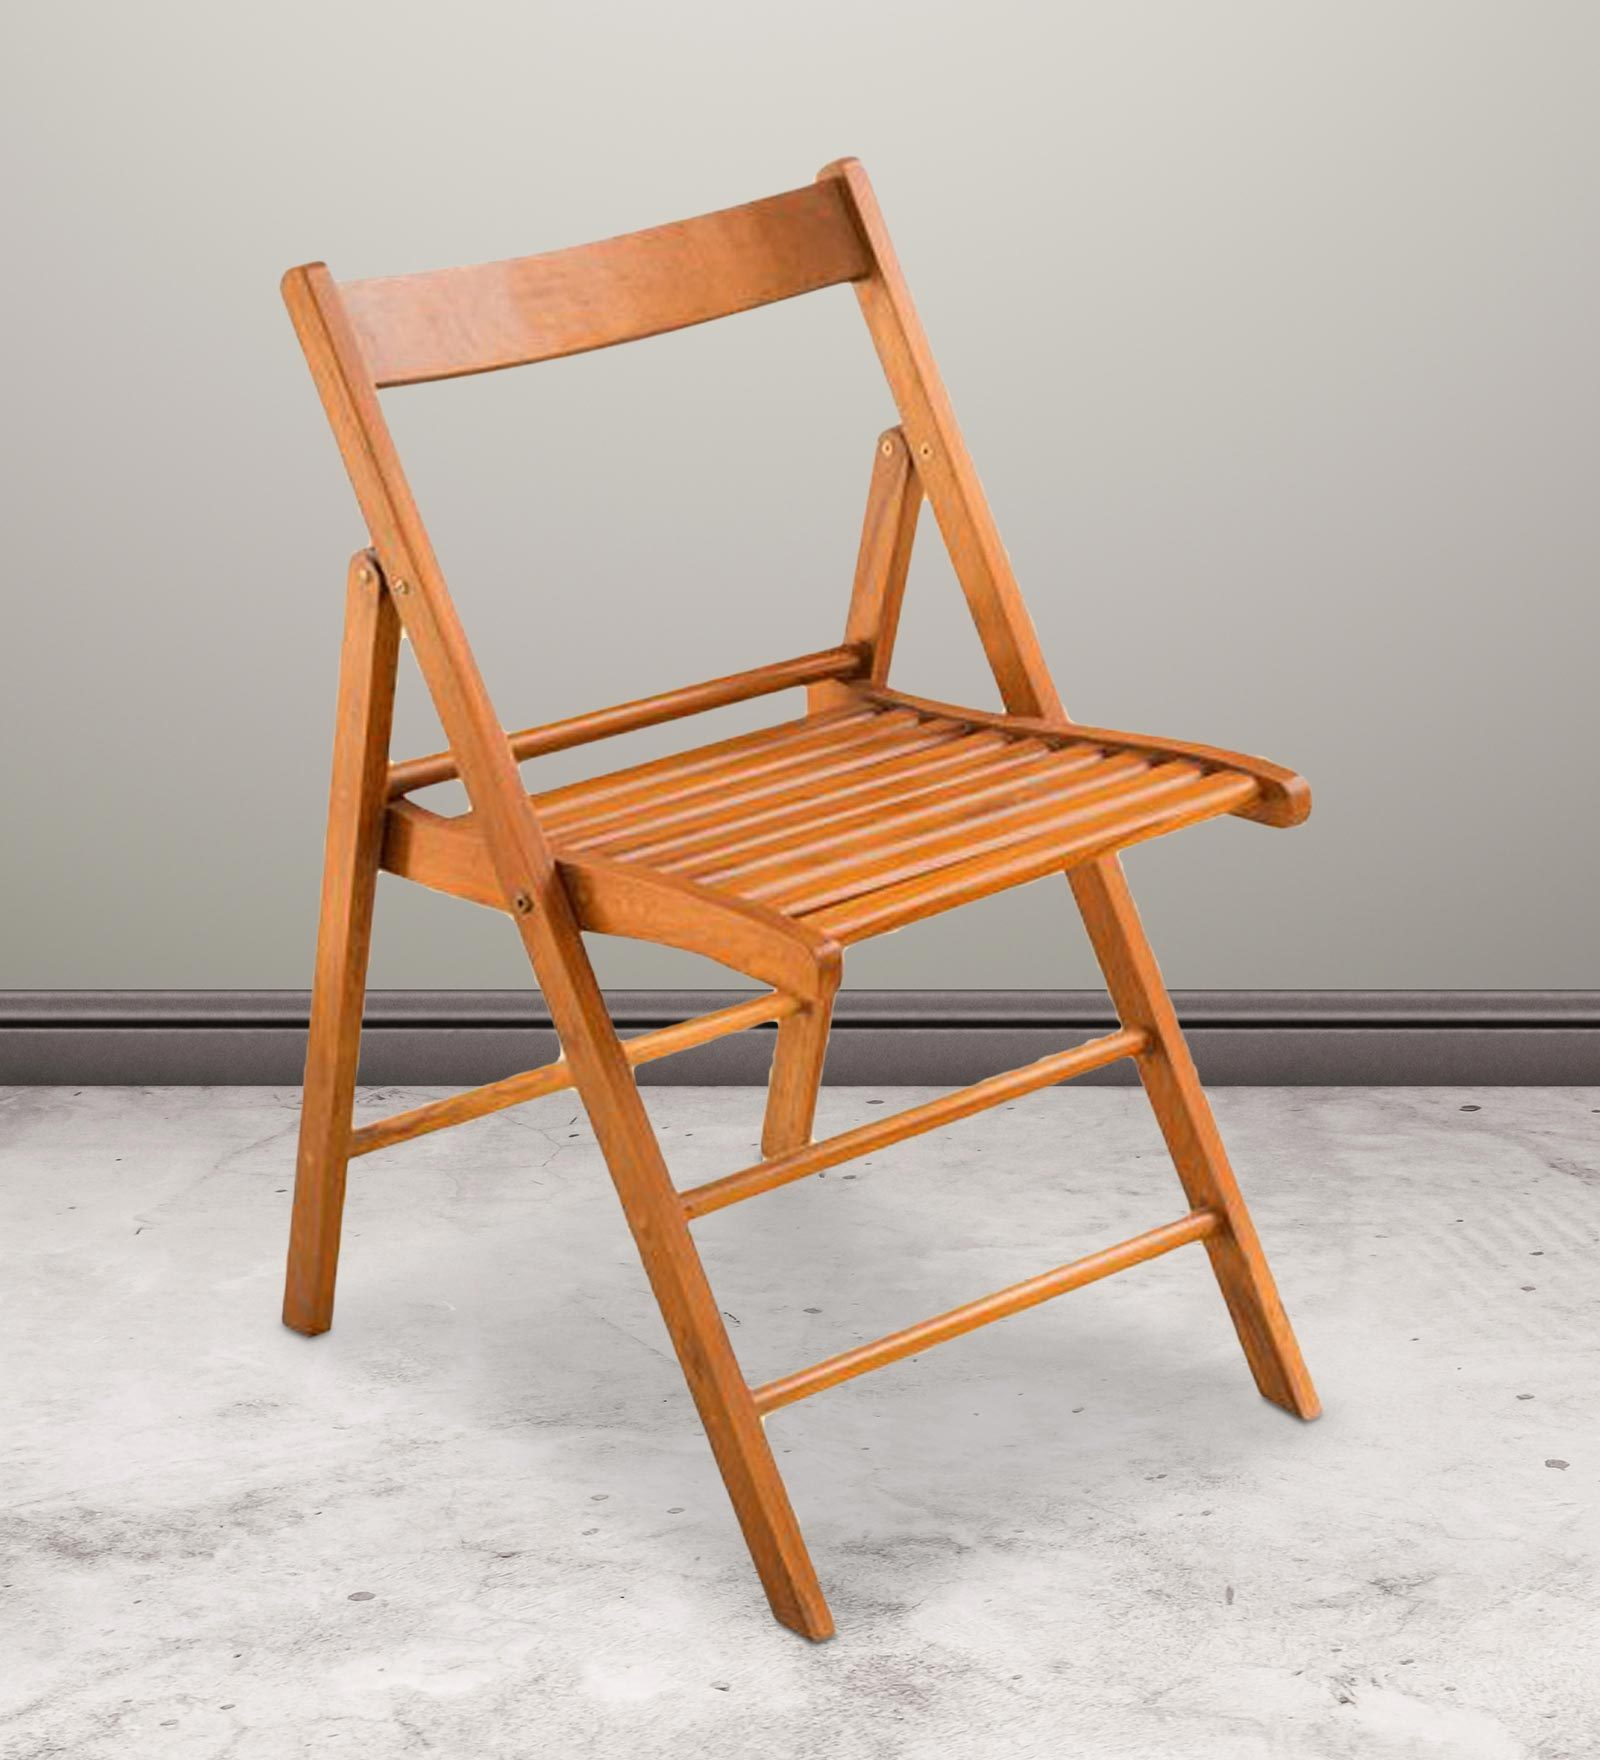Aspen Folding Chair by InLiving: (230, 150, 1352, 1656)
